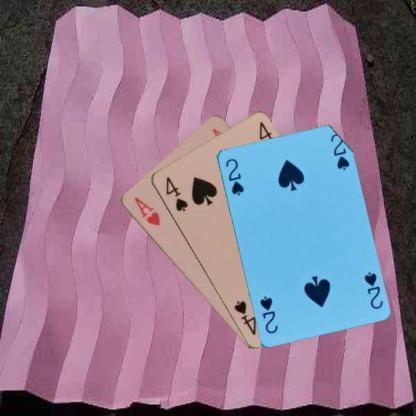2s: (361, 268, 384, 310), (222, 156, 245, 196)
4s: (162, 174, 189, 213)
Ah: (131, 194, 161, 228)
